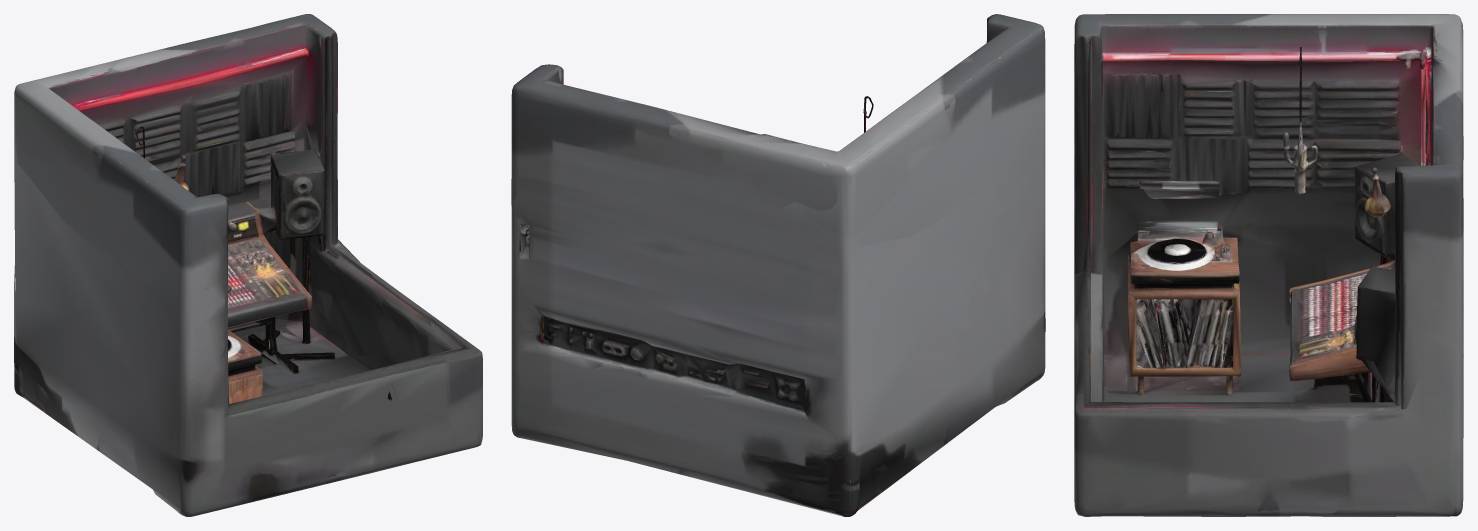
File: studio.glb
3 views of the same model, side by side, from view 1: azimuth 30°, elevation 25°; view 2: azimuth 150°, elevation 25°; view 3: azimuth 270°, elevation 25° (orthographic). The views are drawn at different scales.
Parts seen in each view (by area): view 1: Mesh_0; view 2: Mesh_0; view 3: Mesh_0.
Boxes of the visible parts, box(x1,y1,x2,y2) form: Mesh_0: box(14, 14, 482, 516); Mesh_0: box(511, 14, 1045, 516); Mesh_0: box(1074, 14, 1463, 516).
Bounding box in the file's own units: 1.89 × 1.85 × 1.9.
Materials: 1 (1 with a texture image).
